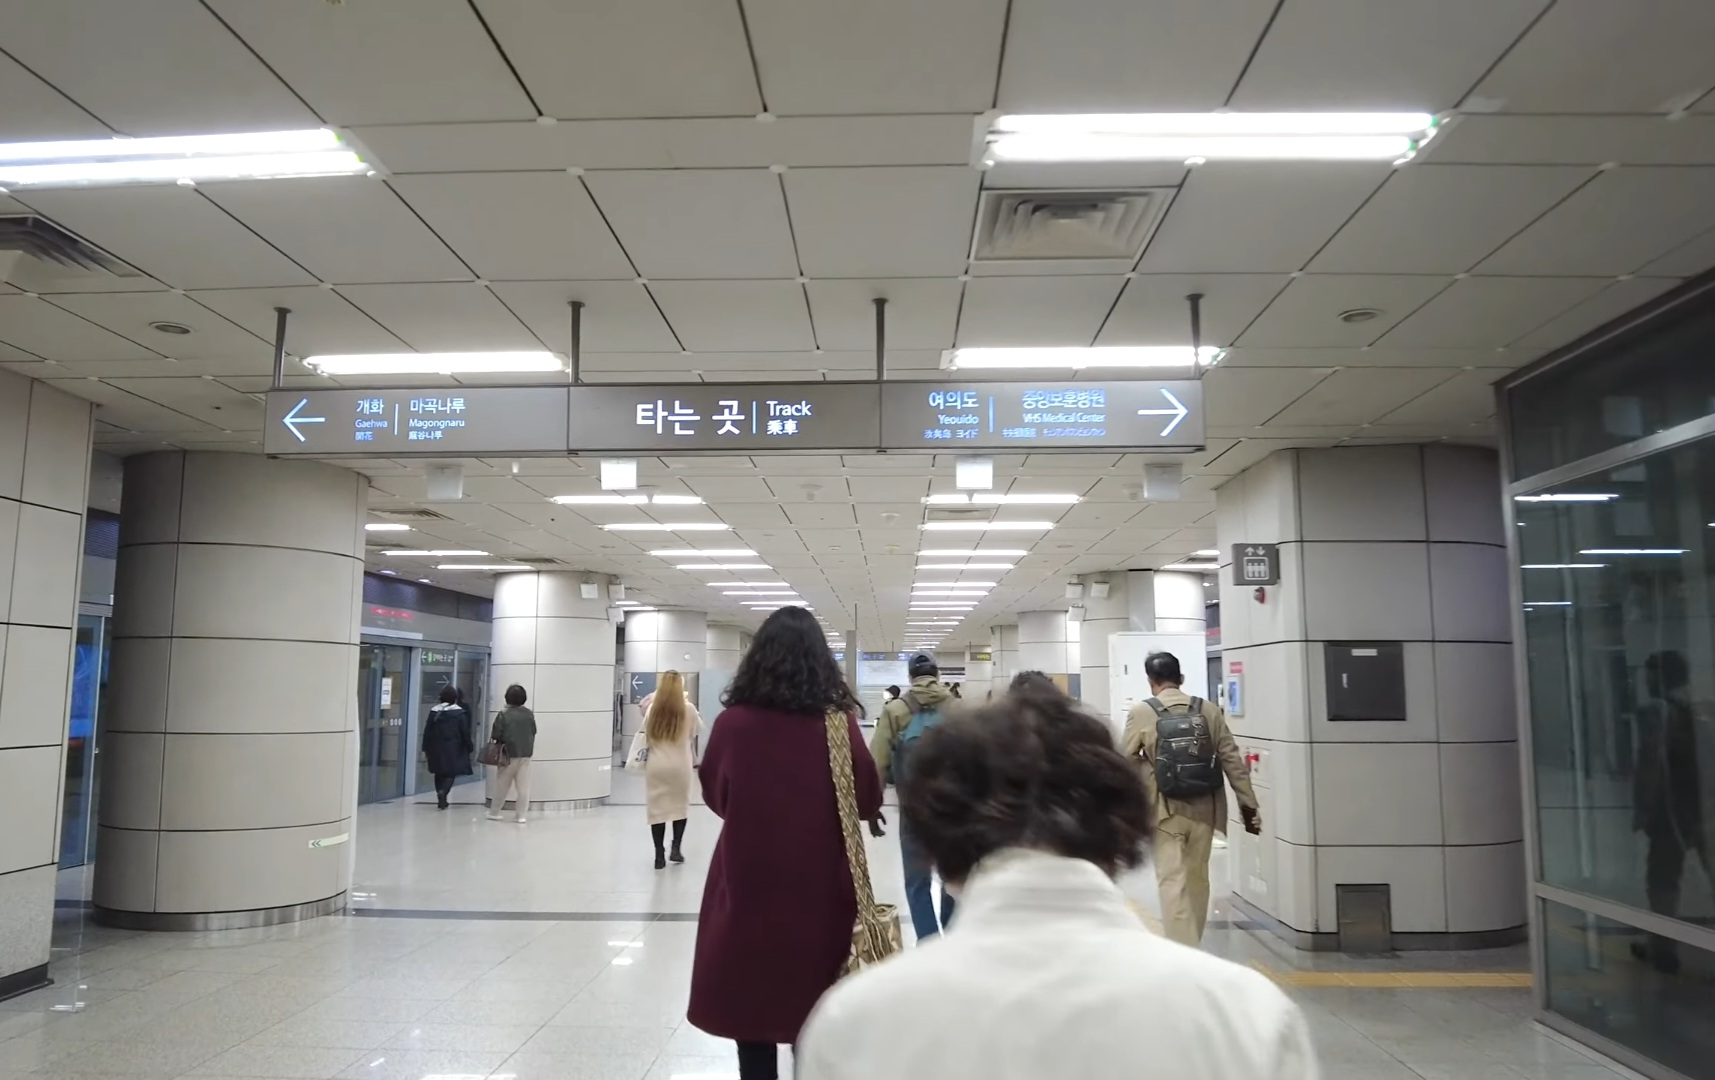signBoard: (231, 300, 1230, 472)
